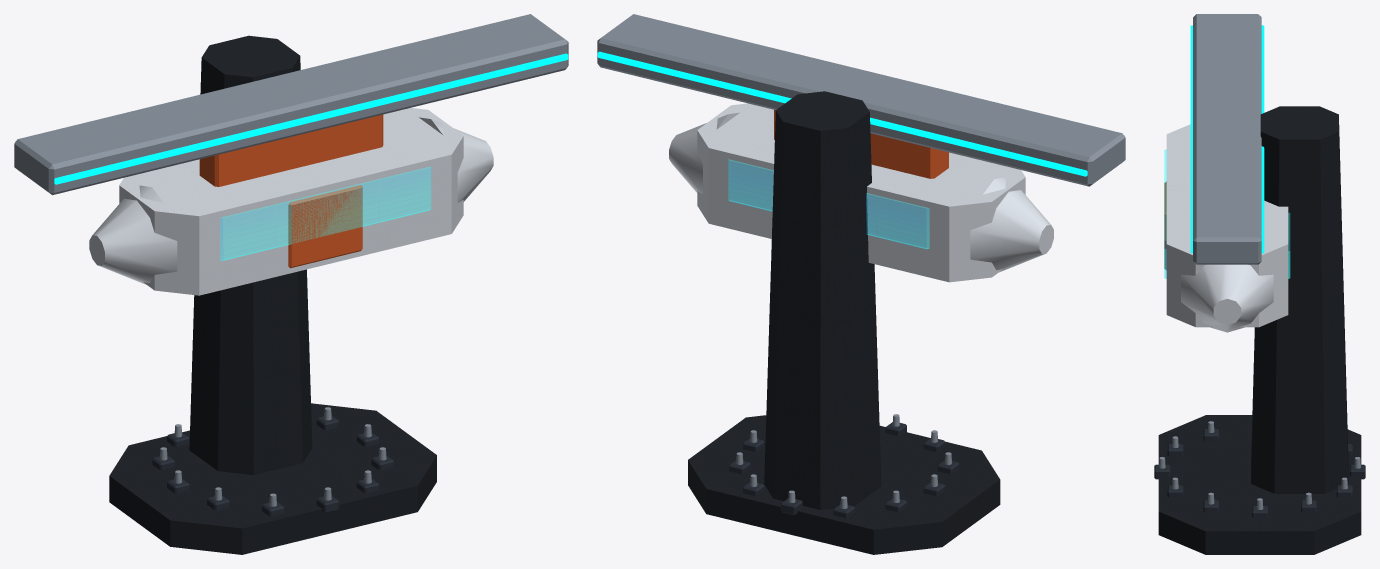
Rendered from prop_01_r1_04.glb.
The picture shows the model from 3 angles, left to right: view 1: azimuth 30°, elevation 25°; view 2: azimuth 150°, elevation 25°; view 3: azimuth 270°, elevation 25°; orthographic projection. The views are drawn at different scales.
Parts seen in each view (by area): view 1: Prop01_C04_gunmetal, Prop01_C04_aero_white, Prop01_C04_steel_machined, Prop01_C04_accent_orange, Prop01_C04_glass_cyan, Prop01_C04_led_cyan, Prop01_C04_carbon_slate; view 2: Prop01_C04_gunmetal, Prop01_C04_aero_white, Prop01_C04_steel_machined, Prop01_C04_glass_cyan, Prop01_C04_led_cyan, Prop01_C04_accent_orange, Prop01_C04_carbon_slate; view 3: Prop01_C04_gunmetal, Prop01_C04_steel_machined, Prop01_C04_aero_white, Prop01_C04_carbon_slate, Prop01_C04_led_cyan, Prop01_C04_glass_cyan.
Part boxes in pixels (<box>): Prop01_C04_gunmetal: <box>109,35,436,554</box>; Prop01_C04_aero_white: <box>89,108,493,295</box>; Prop01_C04_steel_machined: <box>14,14,568,506</box>; Prop01_C04_accent_orange: <box>199,114,383,268</box>; Prop01_C04_glass_cyan: <box>220,166,430,260</box>; Prop01_C04_led_cyan: <box>54,53,568,184</box>; Prop01_C04_carbon_slate: <box>152,415,393,516</box>; Prop01_C04_gunmetal: <box>688,91,1000,554</box>; Prop01_C04_aero_white: <box>669,103,1053,282</box>; Prop01_C04_steel_machined: <box>597,14,1125,508</box>; Prop01_C04_glass_cyan: <box>728,159,929,248</box>; Prop01_C04_led_cyan: <box>597,51,1087,176</box>; Prop01_C04_accent_orange: <box>774,110,948,178</box>; Prop01_C04_carbon_slate: <box>729,422,959,518</box>; Prop01_C04_gunmetal: <box>1158,106,1361,554</box>; Prop01_C04_steel_machined: <box>1159,14,1360,509</box>; Prop01_C04_aero_white: <box>1166,124,1288,332</box>; Prop01_C04_carbon_slate: <box>1154,429,1365,517</box>; Prop01_C04_led_cyan: <box>1190,25,1264,253</box>; Prop01_C04_glass_cyan: <box>1164,149,1290,278</box>.
Size of the model in its own units: 7.4 by 5.7 by 2.92.
Materials: 7 (7 with a texture image).
